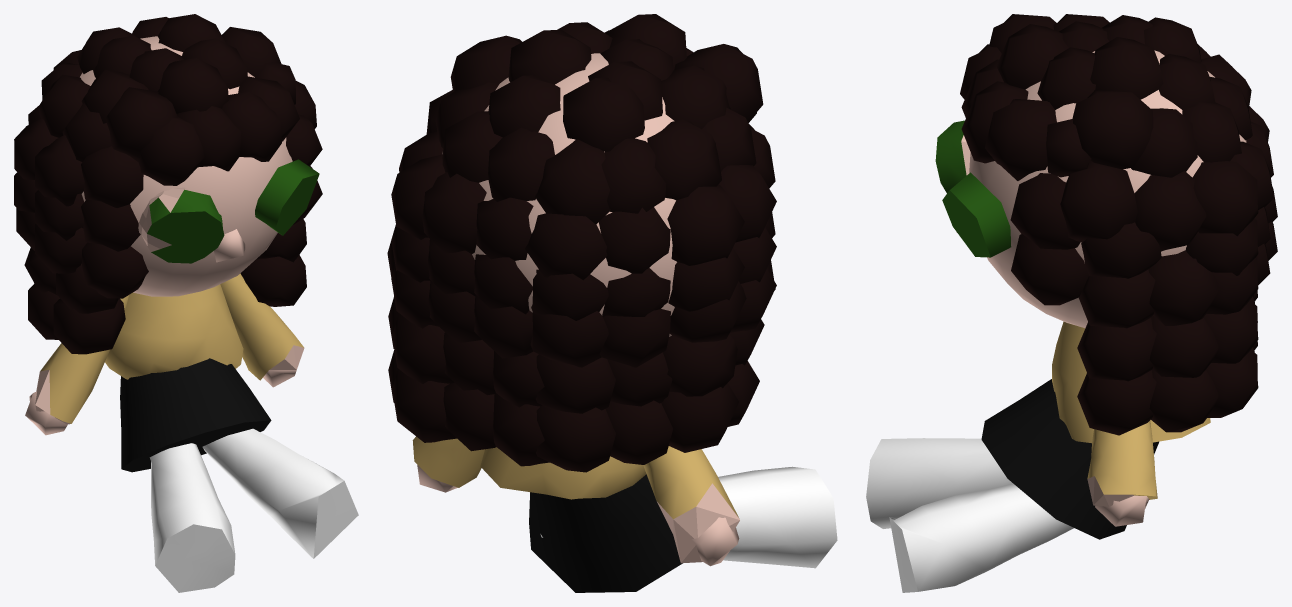
Rendered from doll.fbx.
3 renders of one model, left to right at view 1: azimuth 30°, elevation 25°; view 2: azimuth 150°, elevation 25°; view 3: azimuth 270°, elevation 25°, orthographic. The views are drawn at different scales.
Visible parts, largest first — view 1: Object026; view 2: Object026; view 3: Object026.
Part boxes in pixels (<box>): Object026: <box>14,14,358,592</box>; Object026: <box>387,14,837,592</box>; Object026: <box>866,14,1277,592</box>.
Bounding box in the file's own units: 11.78 × 19.81 × 13.74.
